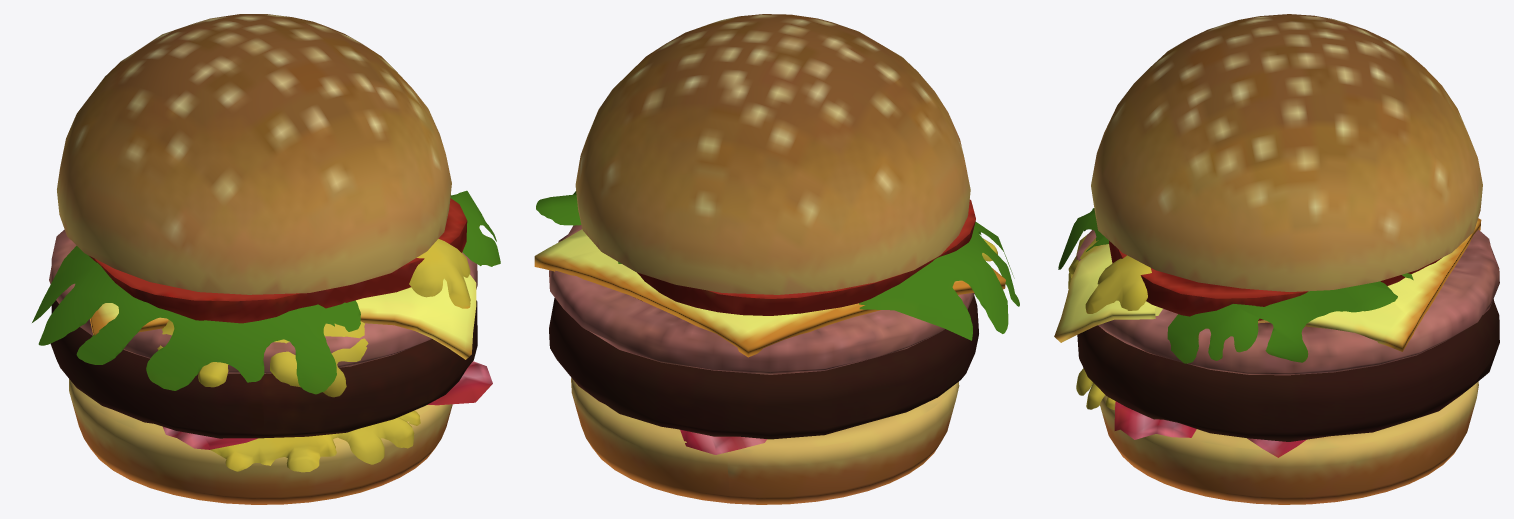
Rendered from Krabby Patty.obj.
3 renders of one model, left to right at view 1: azimuth 30°, elevation 25°; view 2: azimuth 150°, elevation 25°; view 3: azimuth 270°, elevation 25°, orthographic.
Visible parts, largest first — view 1: hamburger_mesh; view 2: hamburger_mesh; view 3: hamburger_mesh.
Boxes of the visible parts, left/top/right/bottom form: hamburger_mesh: left=32, top=14, right=500, bottom=504; hamburger_mesh: left=534, top=14, right=1019, bottom=504; hamburger_mesh: left=1054, top=14, right=1499, bottom=504.
Size of the model in its own units: 0.3913 by 0.3309 by 0.339.
